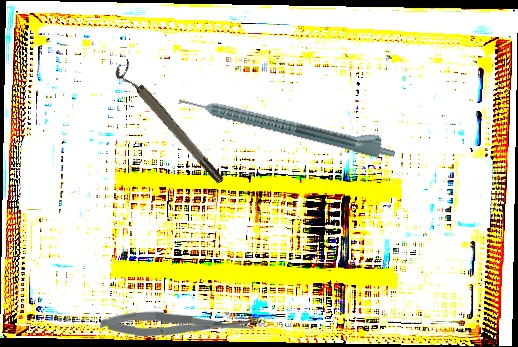Fixation Ring: (111, 58, 227, 191)
Handpiece: (177, 84, 399, 162)
Micro Scissor: (99, 309, 258, 341)
